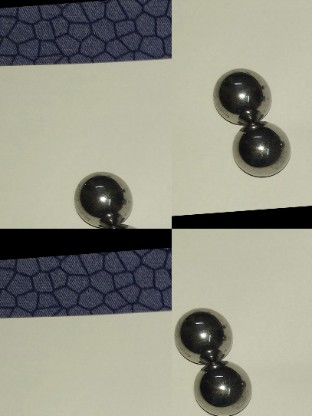ironball: (211, 61, 274, 120), (229, 120, 294, 176), (174, 303, 233, 363), (69, 168, 133, 222), (188, 363, 254, 412)
